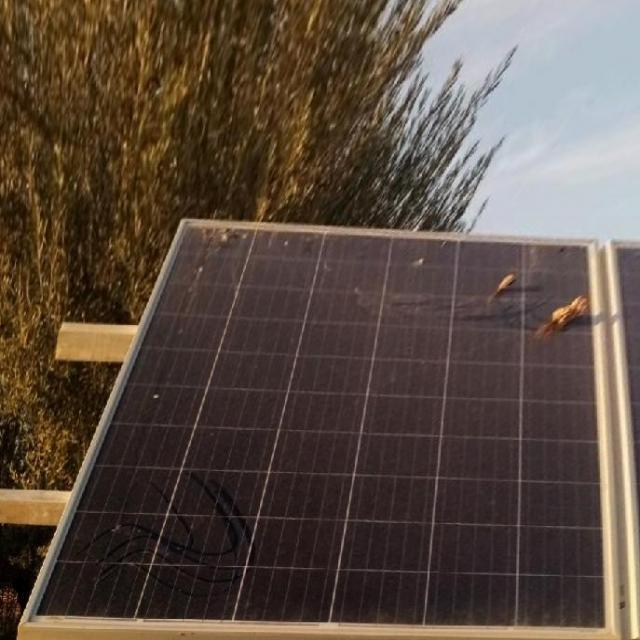faulty: (22, 216, 613, 640)
